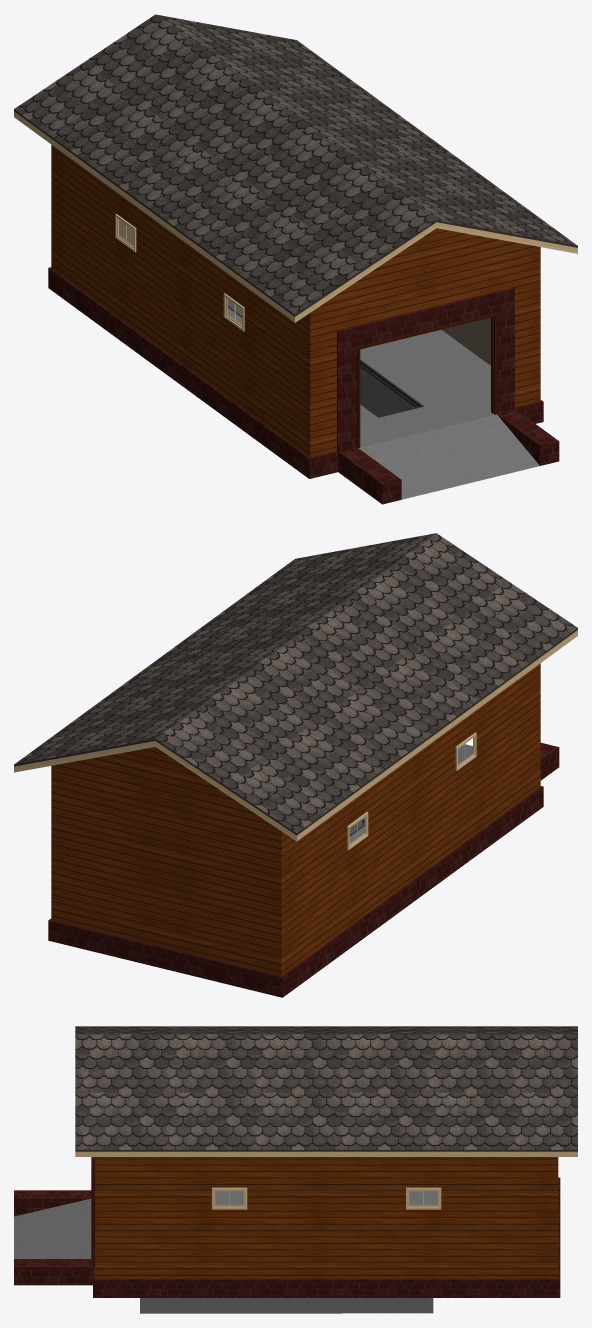
File: Garage.fbx
3 renders of one model, top to bottom at view 1: azimuth 30°, elevation 25°; view 2: azimuth 150°, elevation 25°; view 3: azimuth 270°, elevation 25°, orthographic. The views are drawn at different scales.
Parts seen in each view (by area): view 1: GarageWallsAndRoof, GarageWallsInside; view 2: GarageWallsAndRoof; view 3: GarageWallsAndRoof, GarageWallsInside.
Part boxes in pixels (x1,y1,x2,y2): GarageWallsAndRoof: (14, 14, 577, 504); GarageWallsInside: (119, 219, 539, 499); GarageWallsAndRoof: (14, 533, 577, 997); GarageWallsAndRoof: (14, 1026, 577, 1297); GarageWallsInside: (14, 1191, 437, 1313).
Size of the model in its own units: 738 by 752 by 1425.
